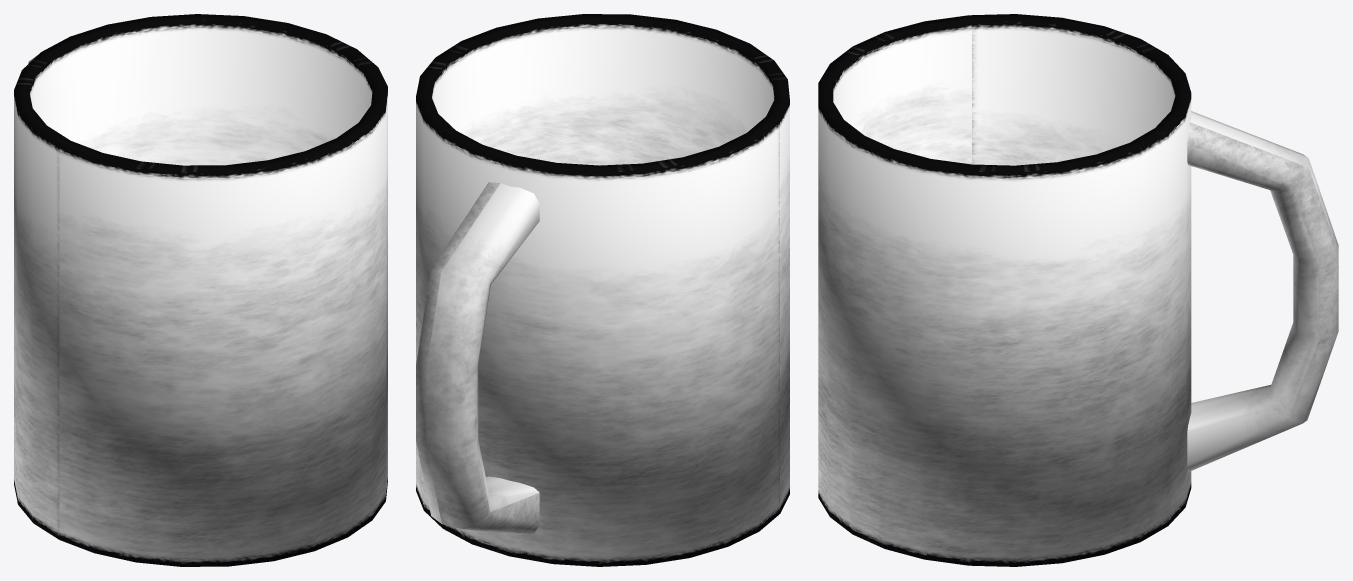
The model's file is mug.obj.
3 renders of one model, left to right at view 1: azimuth 30°, elevation 25°; view 2: azimuth 150°, elevation 25°; view 3: azimuth 270°, elevation 25°, orthographic.
Visible parts, largest first — view 1: Cylinder; view 2: Cylinder; view 3: Cylinder.
Boxes of the visible parts, x1,y1,x2,y2 form: Cylinder: (14, 14, 387, 566); Cylinder: (416, 14, 789, 566); Cylinder: (818, 14, 1338, 566).
Size of the model in its own units: 2 by 2.33 by 2.78.
